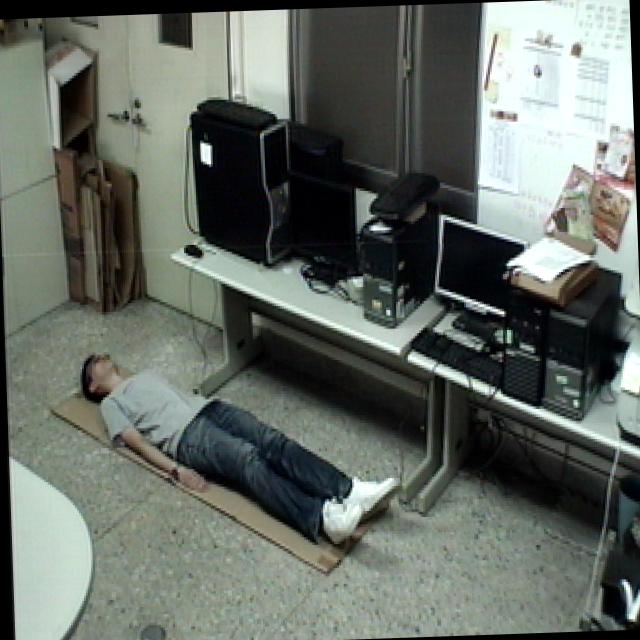lie: (74, 306, 413, 559)
